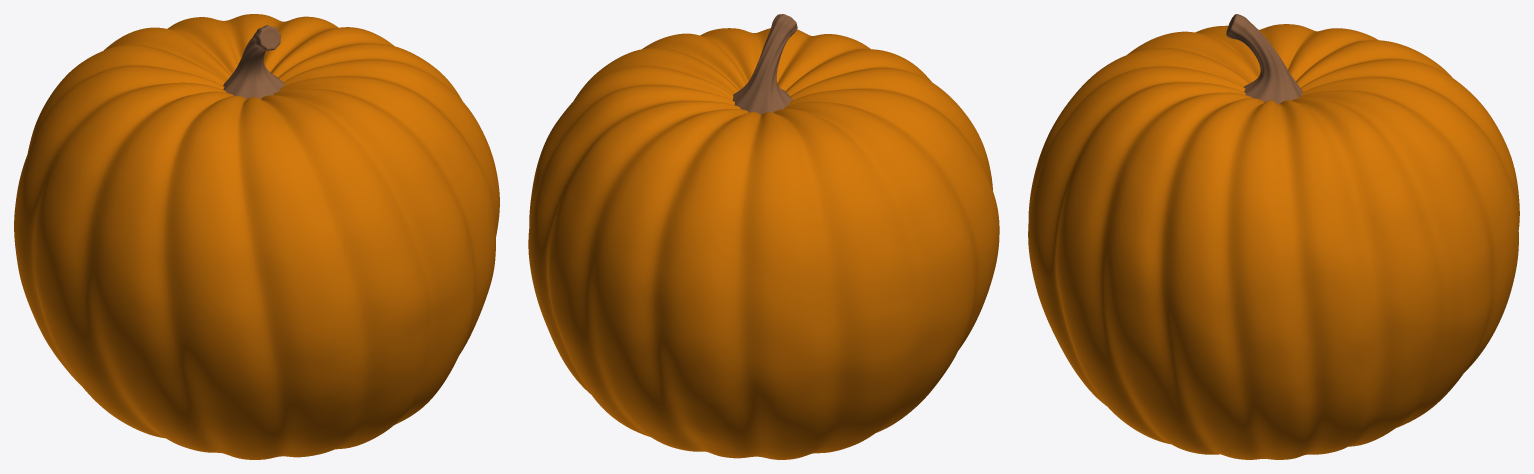
The model's file is pumpkin.fbx.
3 renders of one model, left to right at view 1: azimuth 30°, elevation 25°; view 2: azimuth 150°, elevation 25°; view 3: azimuth 270°, elevation 25°, orthographic. The views are drawn at different scales.
Visible parts, largest first — view 1: Sphere, Circle; view 2: Sphere, Circle; view 3: Sphere, Circle.
Boxes of the visible parts, left/top/right/bottom form: Sphere: left=14, top=14, right=499, bottom=459; Circle: left=223, top=25, right=284, bottom=99; Sphere: left=528, top=28, right=999, bottom=459; Circle: left=732, top=14, right=797, bottom=114; Sphere: left=1028, top=24, right=1519, bottom=459; Circle: left=1226, top=14, right=1302, bottom=104.
Size of what is drawn, in the model's own units: 1.97 by 1.8 by 2.01.
